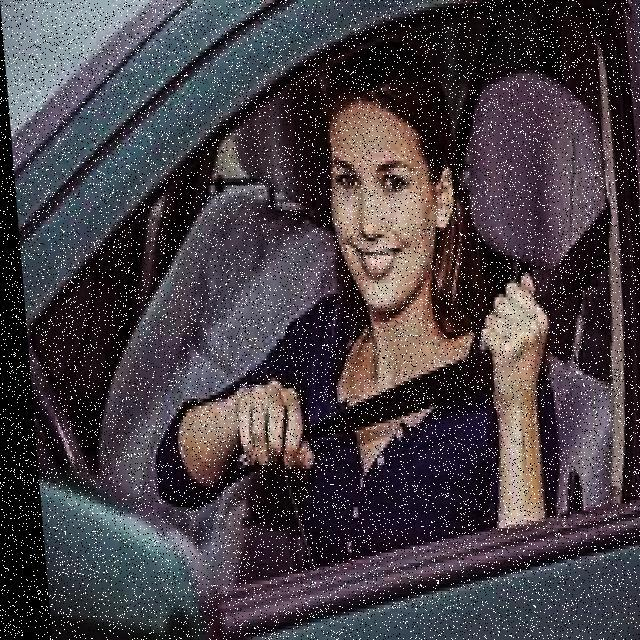seatbelt: (262, 272, 558, 574)
